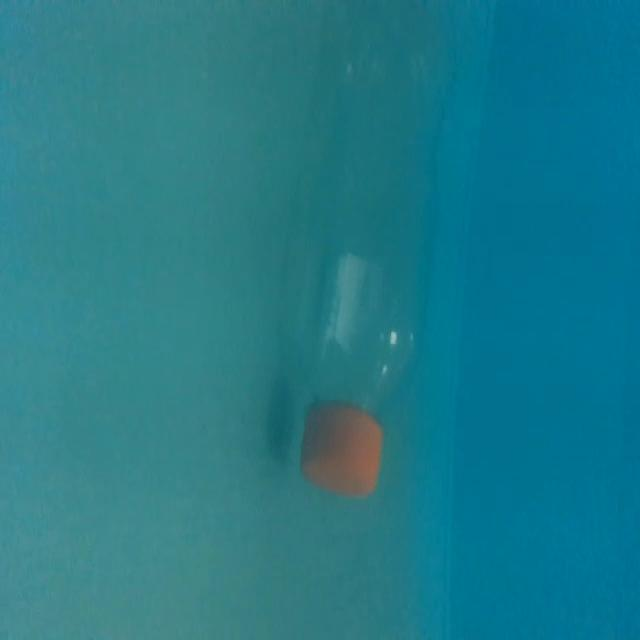plastic bottle: (296, 0, 476, 501)
